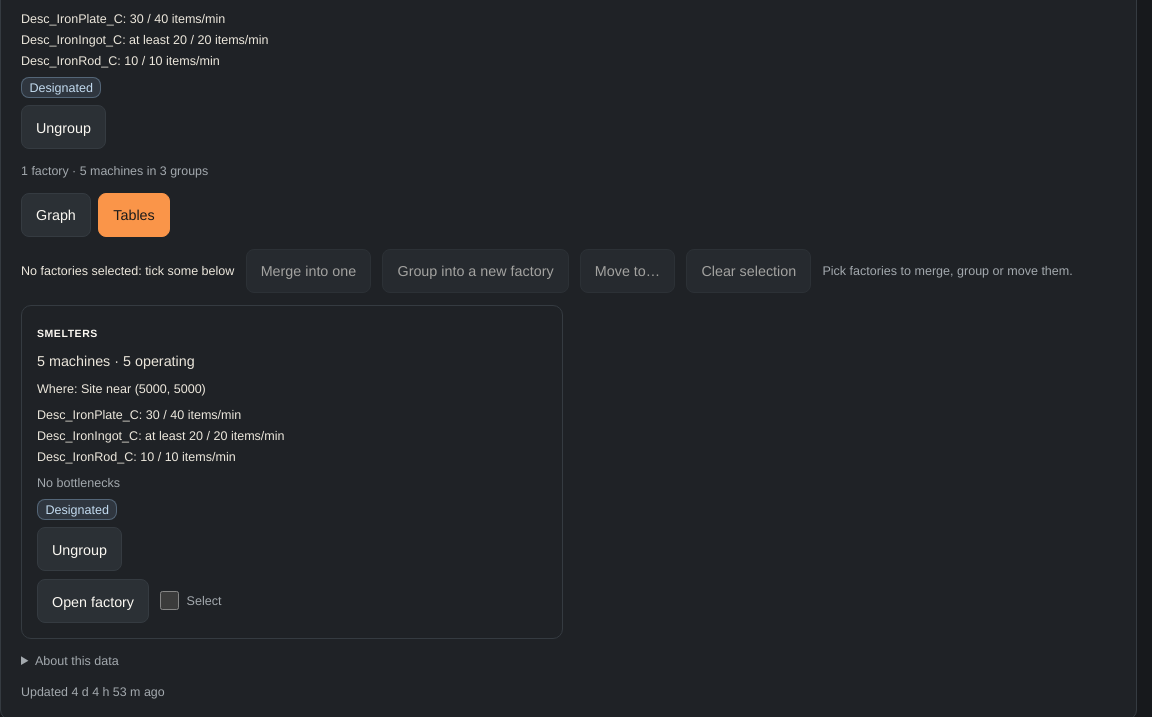
Test: the factory tree in the Planner › a bad tail is trimmed off the address, with a note
(page scrolled)
// The note goes once the viewer goes somewhere.
Click the button with aria-label "Open factory: Smelters" at (93, 601), box [37,579,149,623]
(page scrolled)
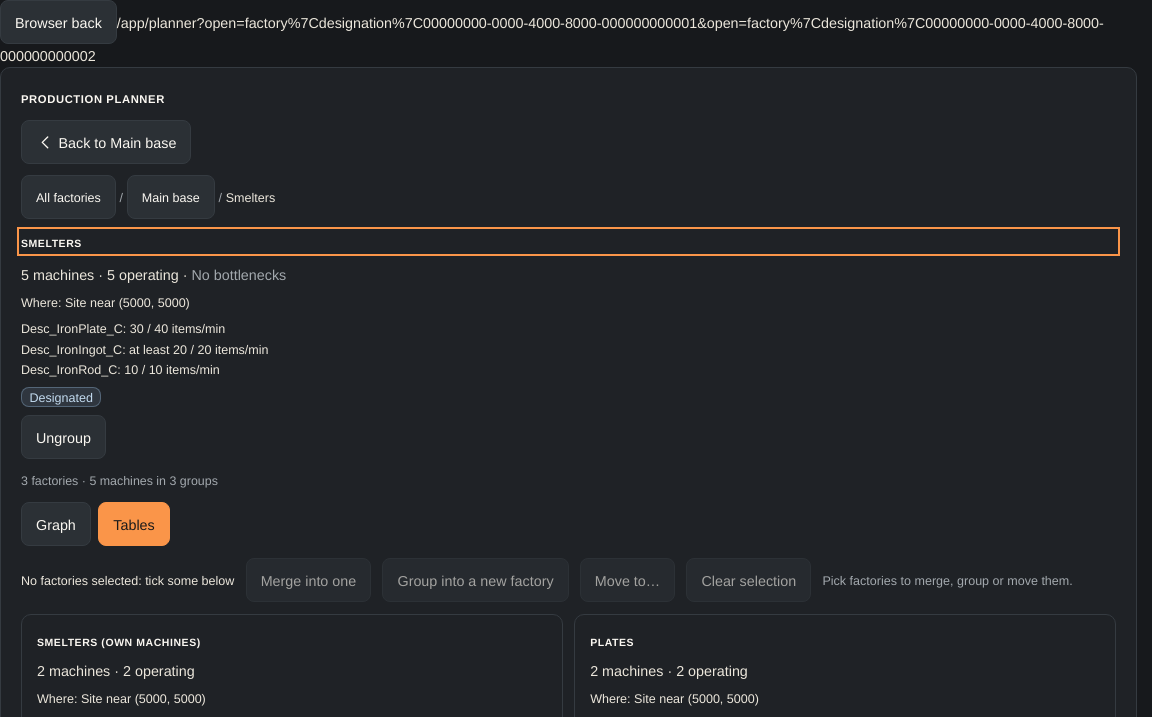
Expected: the heading "Smelters" is shown, [21,232,82,250]
